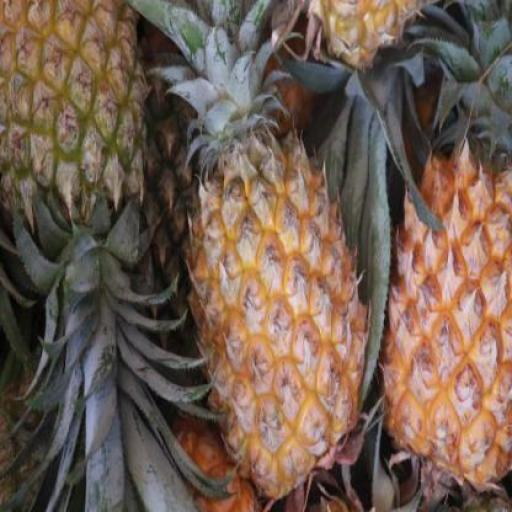------------------------------: (0, 0, 149, 233)
Pineapple - v8 v1: (180, 128, 368, 482), (384, 136, 512, 488)
